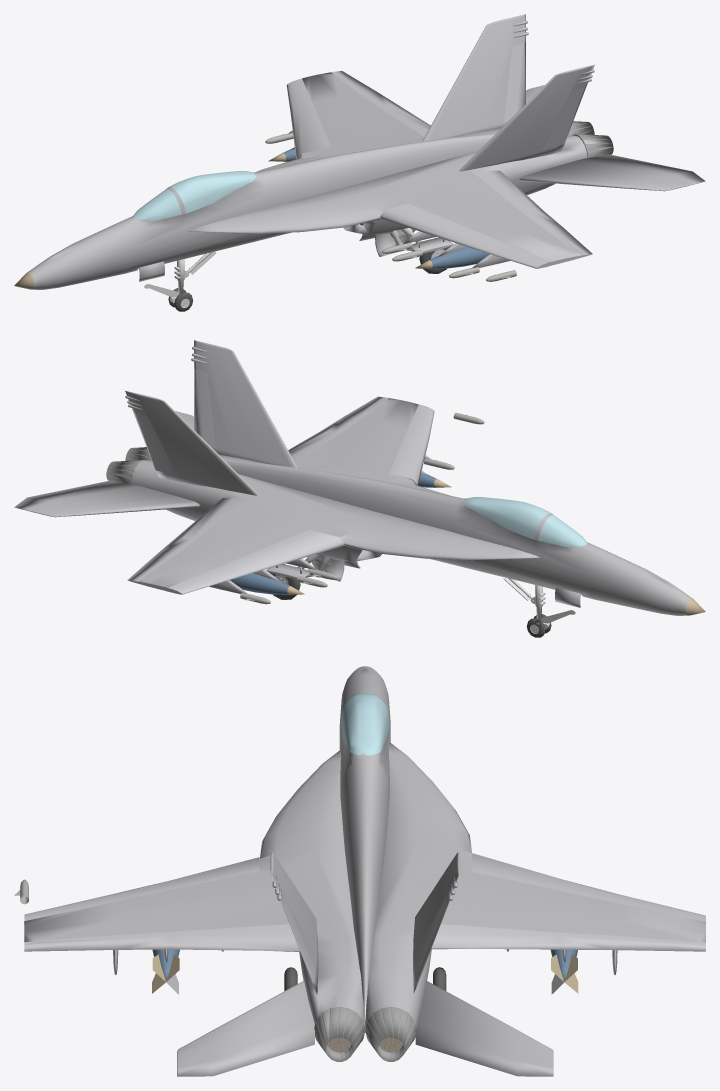
3 views of the same model, one above another, from view 1: azimuth 30°, elevation 25°; view 2: azimuth 150°, elevation 25°; view 3: azimuth 270°, elevation 25° (orthographic). The views are drawn at different scales.
Visible parts, largest first — view 1: group_19_001, Body__R_, group_18_003, Wing__R_, Wing__L_, group_18_001, group_1, group_22_003, group_22_005, group_66_003, group_19, group_66_005 (+6 smaller); view 2: group_19_001, group_66, Wing__L_, group_18_001, Wing__R_, group_18_003, group_60, group_66_003, group_19, group_22_003, group_66_005, group_22_005 (+6 smaller); view 3: Body__R_, group_66, Wing__L_, Wing__R_, group_19_001, group_1, group_60, group_22_005, group_66_005, group_66_003, group_19, group_22_003 (+4 smaller).
Boxes of the visible parts, box(x1,y1,x2,y2) form: group_19_001: box(27, 134, 495, 289); Body__R_: box(188, 135, 587, 234); group_18_003: box(422, 14, 525, 141); Wing__R_: box(406, 170, 591, 268); Wing__L_: box(302, 72, 424, 158); group_18_001: box(459, 64, 594, 171); group_1: box(519, 154, 705, 191); group_22_003: box(380, 203, 551, 268); group_22_005: box(470, 169, 592, 255); group_66_003: box(286, 78, 330, 158); group_19: box(169, 171, 256, 213); group_66_005: box(331, 71, 430, 136); group_19_001: box(224, 460, 692, 615); group_66: box(132, 460, 539, 561); Wing__L_: box(128, 498, 350, 594); group_18_001: box(194, 340, 297, 467); Wing__R_: box(295, 398, 418, 474); group_18_003: box(125, 390, 258, 495); group_60: box(14, 480, 200, 517); group_66_003: box(168, 530, 344, 594); group_19: box(463, 497, 549, 539); group_22_003: box(389, 404, 434, 485); group_66_005: box(127, 497, 246, 581); group_22_005: box(288, 396, 388, 462); Body__R_: box(259, 750, 364, 1040); group_66: box(365, 742, 471, 1028); Wing__L_: box(410, 848, 705, 942); Wing__R_: box(24, 870, 289, 942); group_19_001: box(339, 666, 390, 1032); group_1: box(177, 981, 314, 1076); group_60: box(415, 981, 553, 1076); group_22_005: box(24, 924, 300, 951); group_66_005: box(431, 924, 705, 951); group_66_003: box(472, 853, 705, 921); group_19: box(341, 694, 389, 755); group_22_003: box(24, 857, 259, 924).
Bounding box in the file's own units: 8.72 × 6.18 × 2.38.
